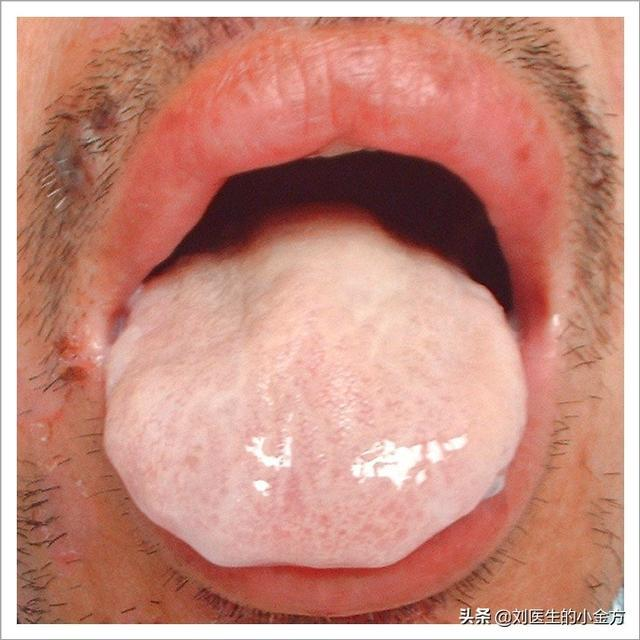tongue: (100, 226, 538, 581)
